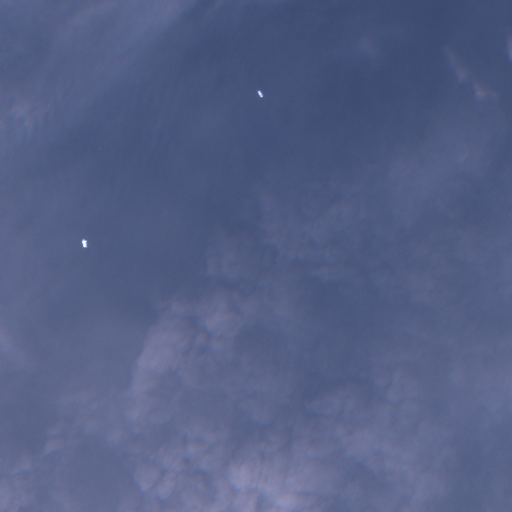Iceberg: (82, 239, 87, 247), (257, 90, 262, 97)
